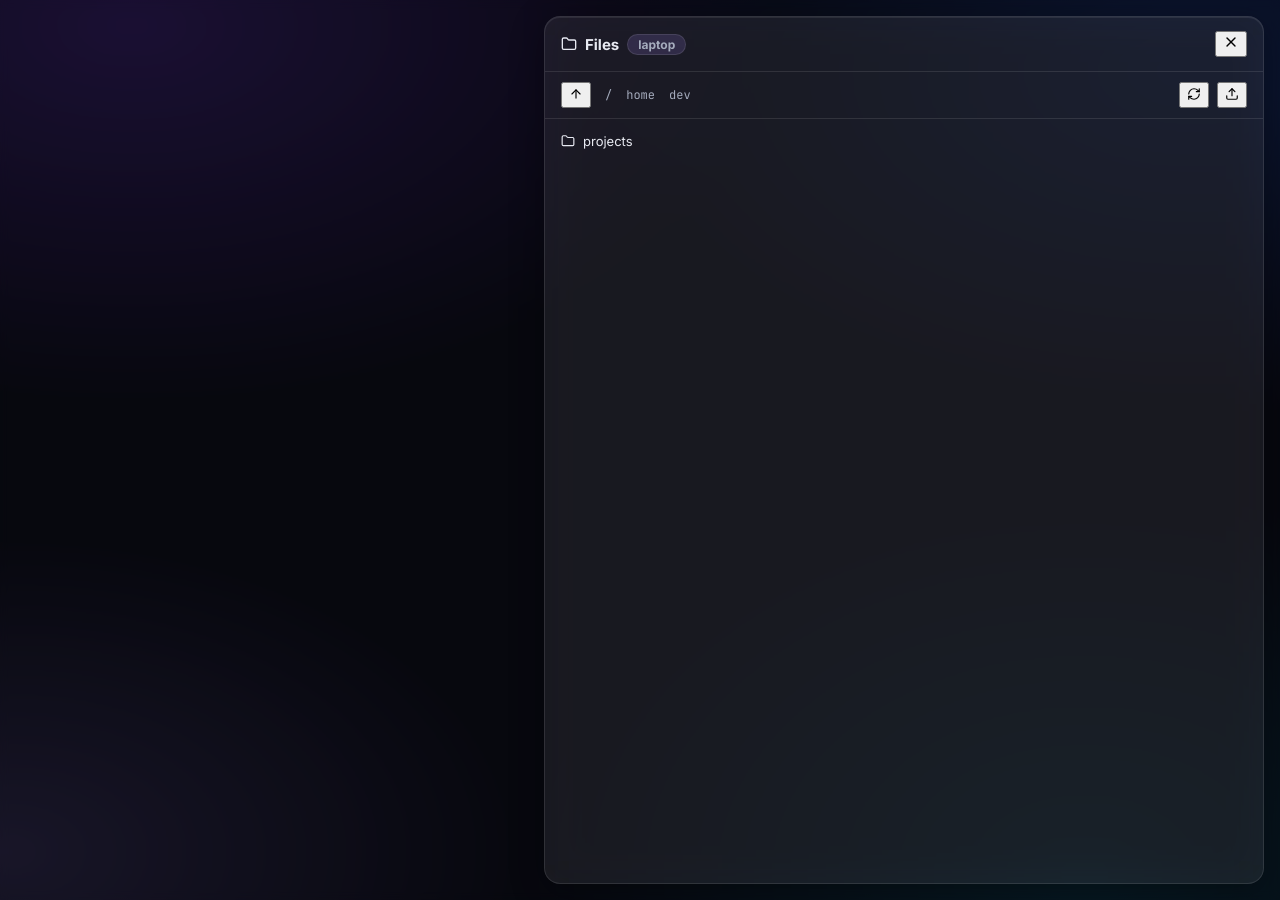
Scenario: FileManagerPanel › navigates into a directory on click
Click the button with aria-label "open projects".
click(608, 141)  # box [561, 133, 923, 149]
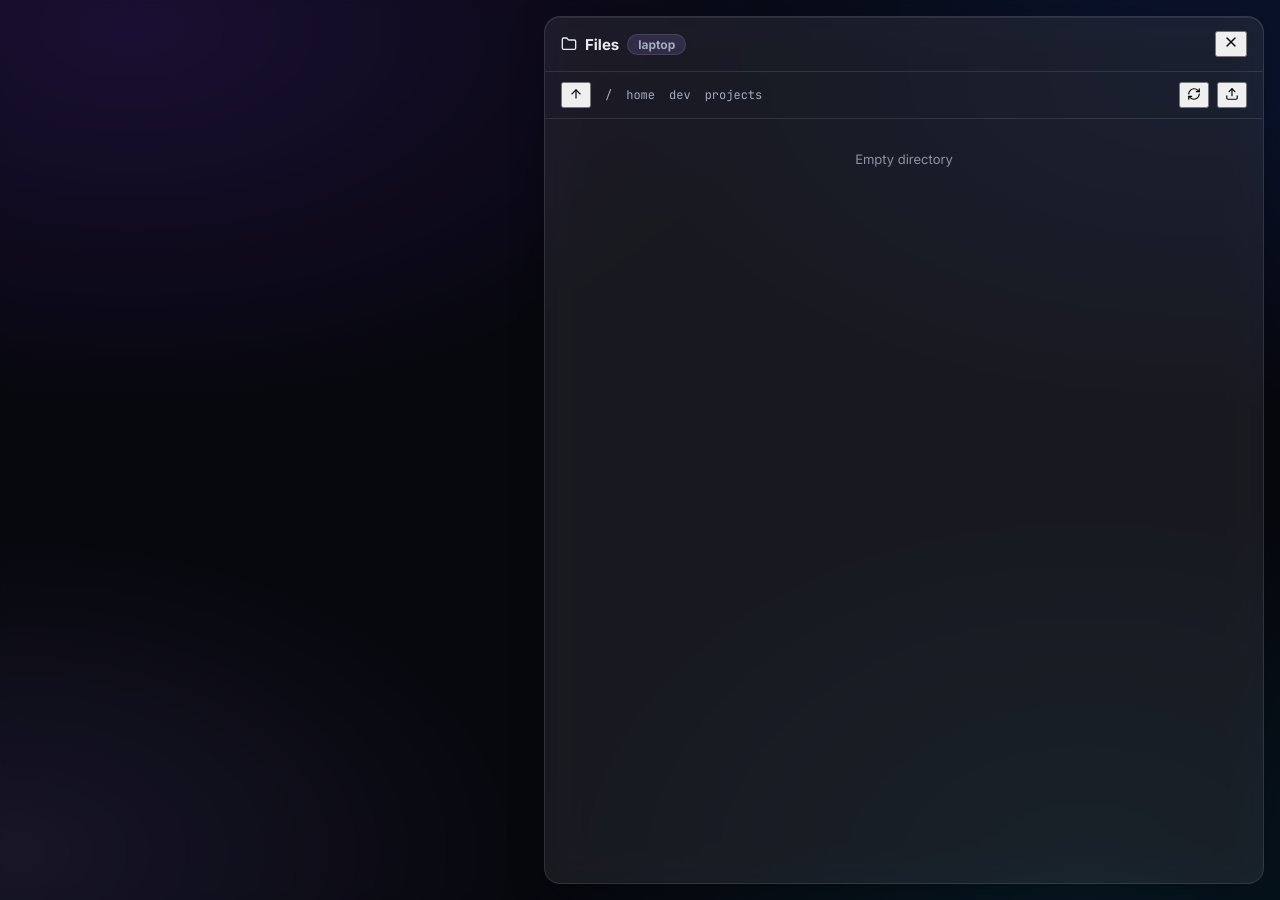
Check: the text "Empty directory" is shown, box [855, 151, 953, 167]
